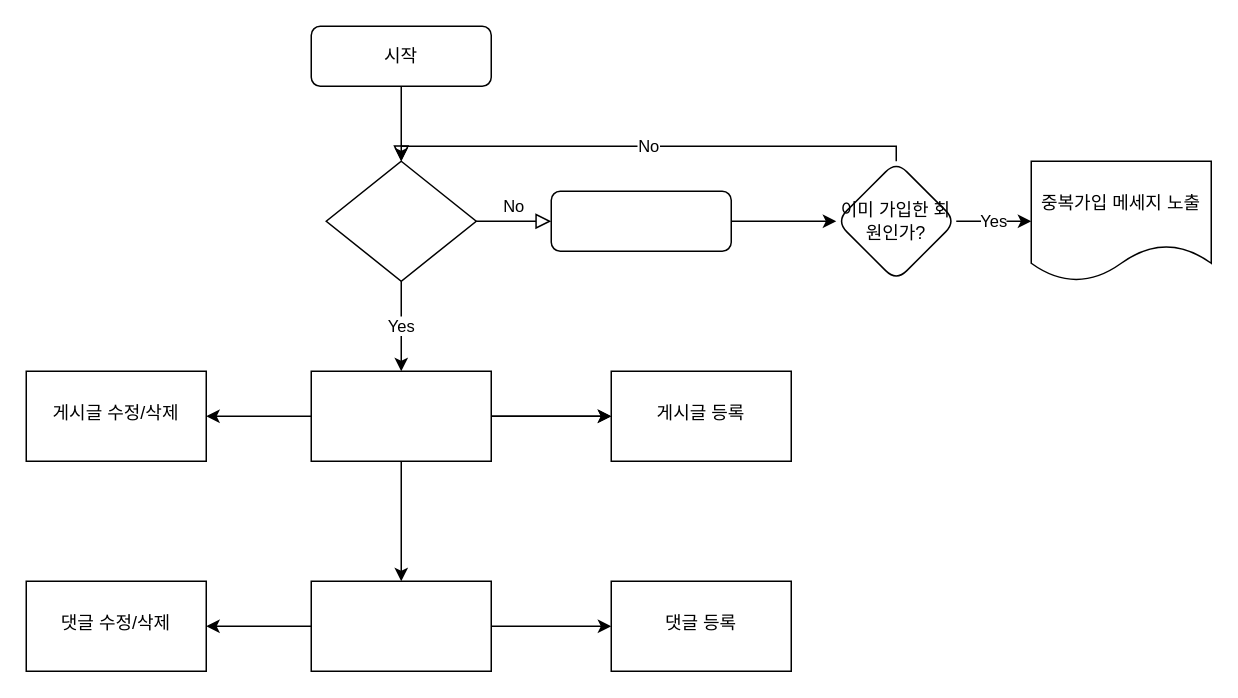
Image size: 1238x698. Some labels were removed from this diagram. Here are the shapes that lost their labels. From the top down, the box of each, then its label:
(325, 160, 476, 281): 로그인이 되었는가?
(550, 190, 731, 251): 회원가입
(310, 370, 491, 461): 게시글 조회
(310, 580, 491, 671): 댓글 조회
